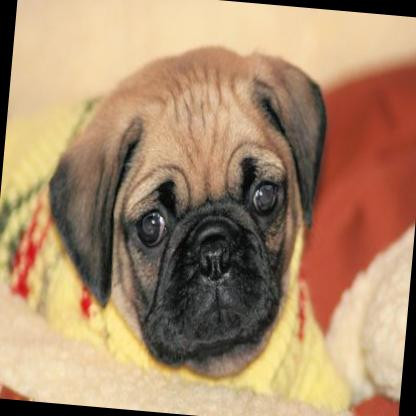pug: (0, 25, 384, 416)
